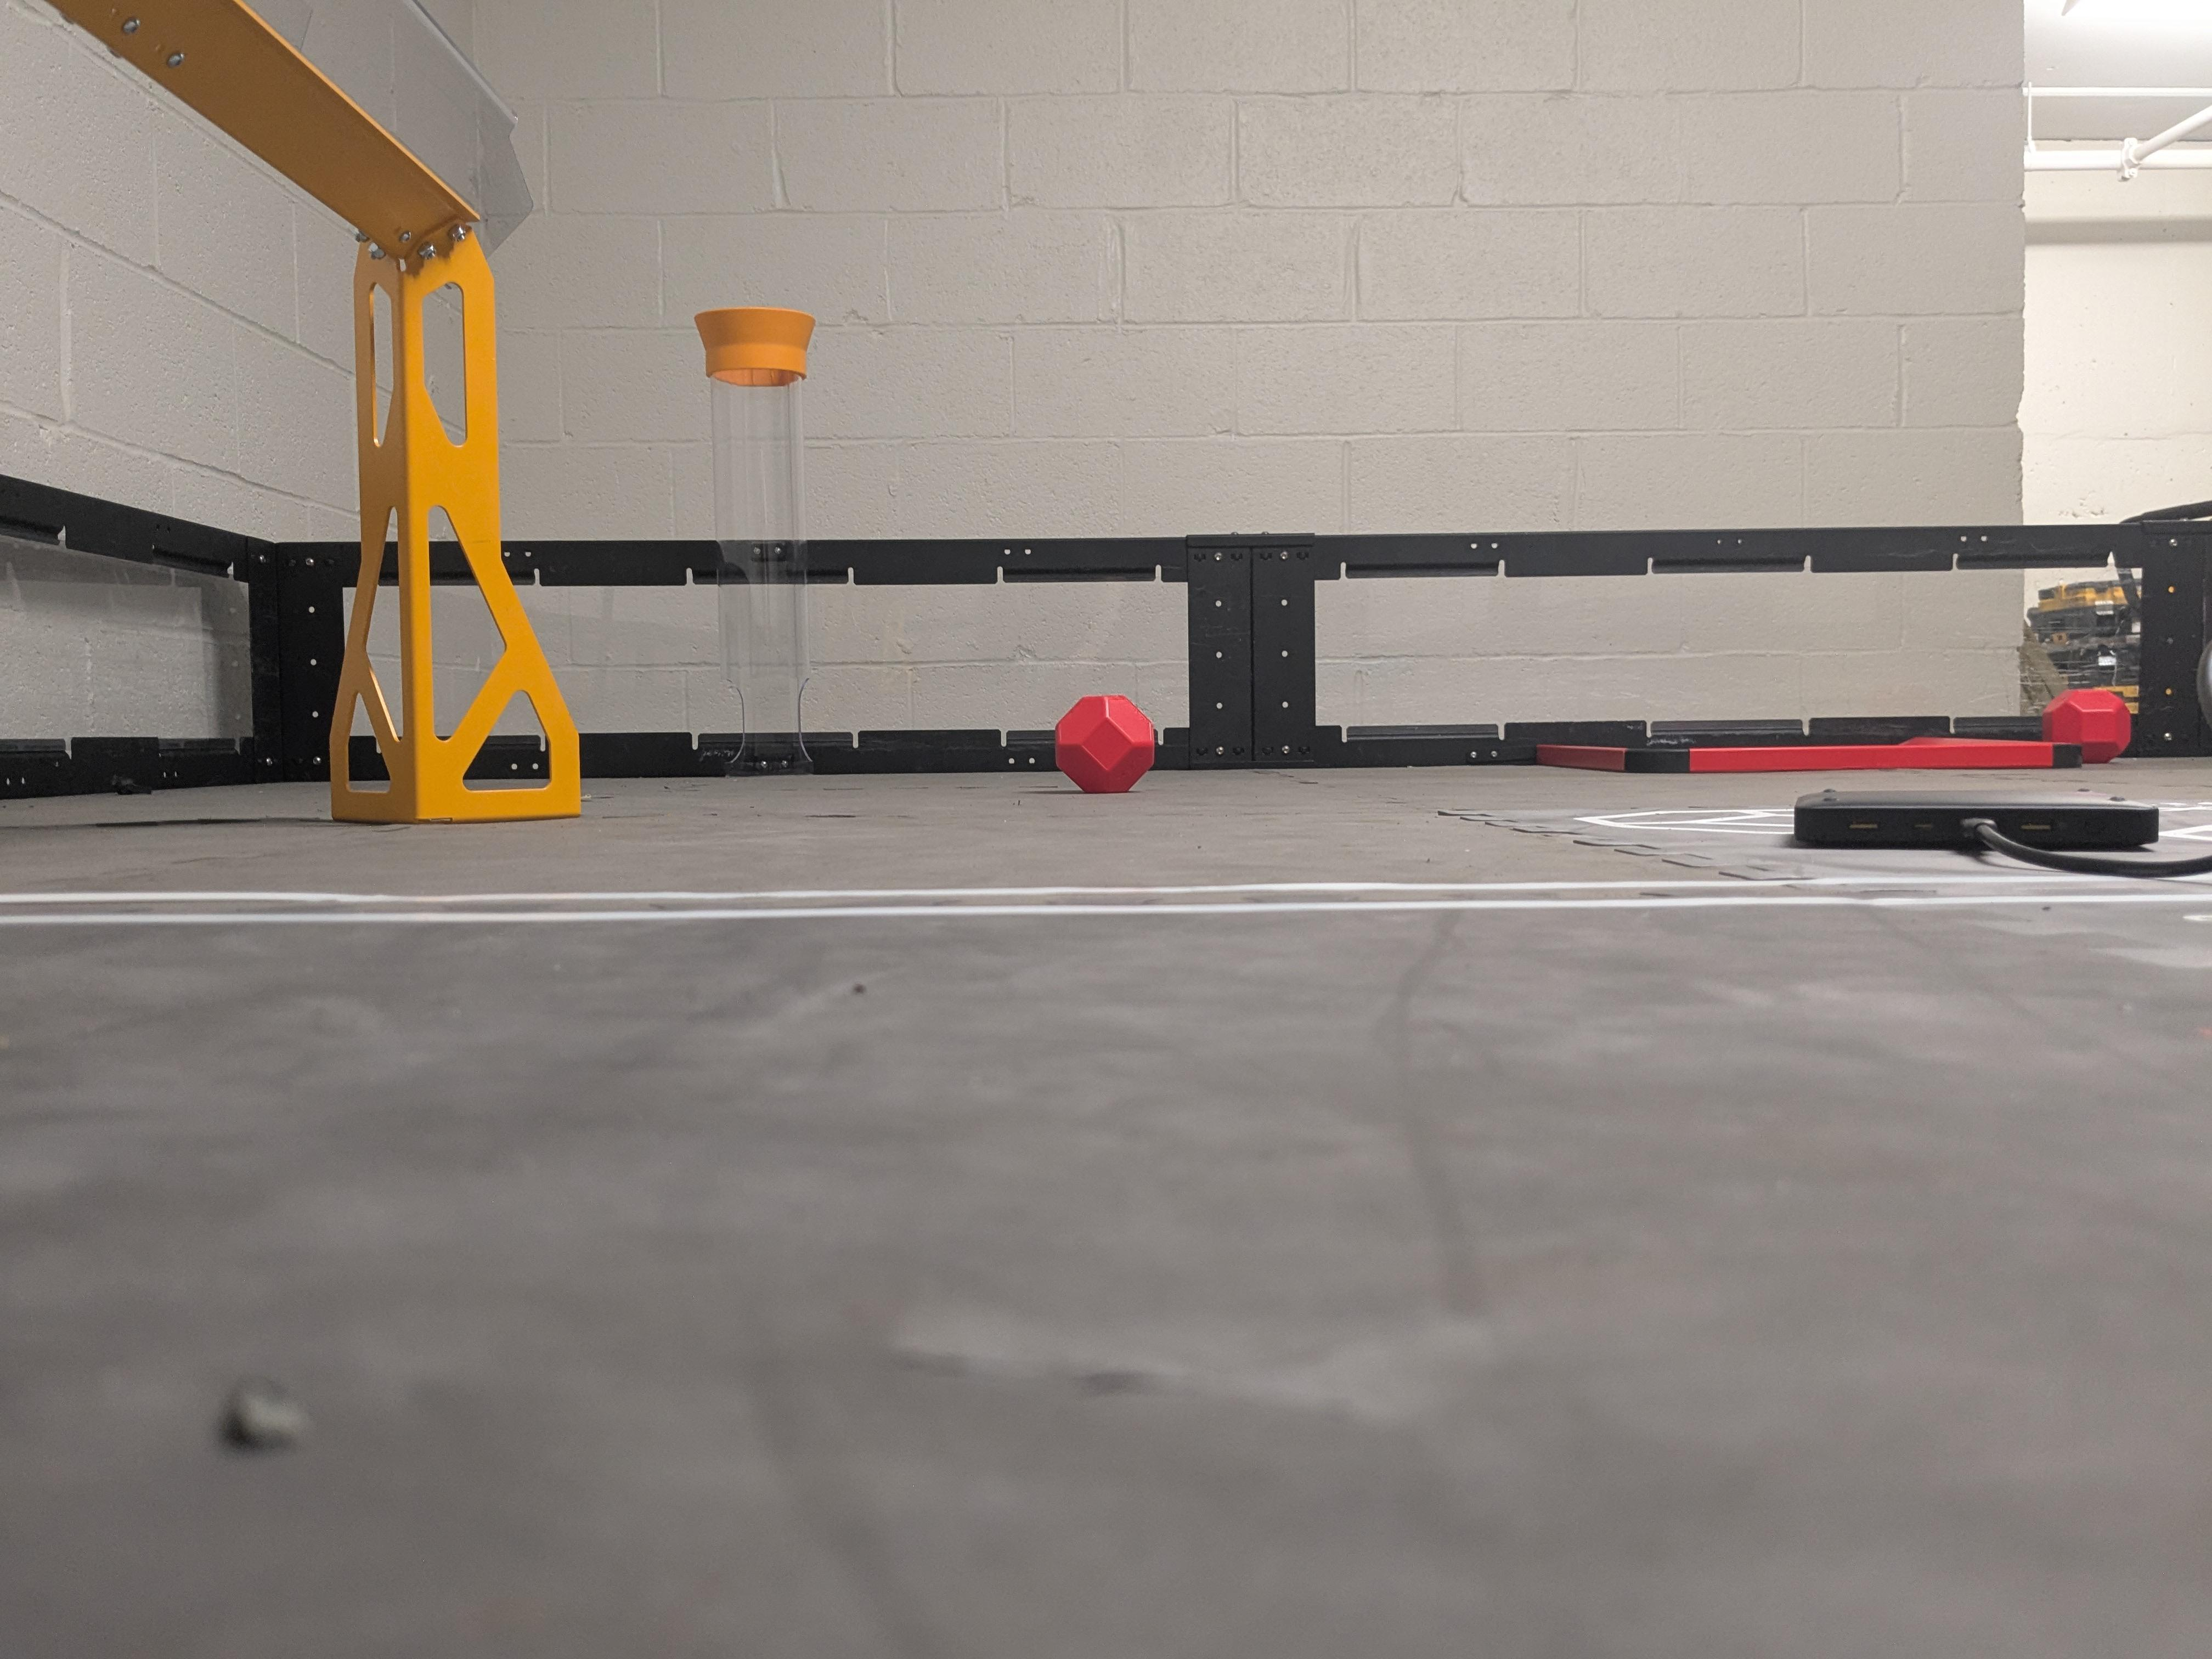Vex-Pieces-RED: (1055, 697, 1155, 793), (2043, 688, 2130, 763)
